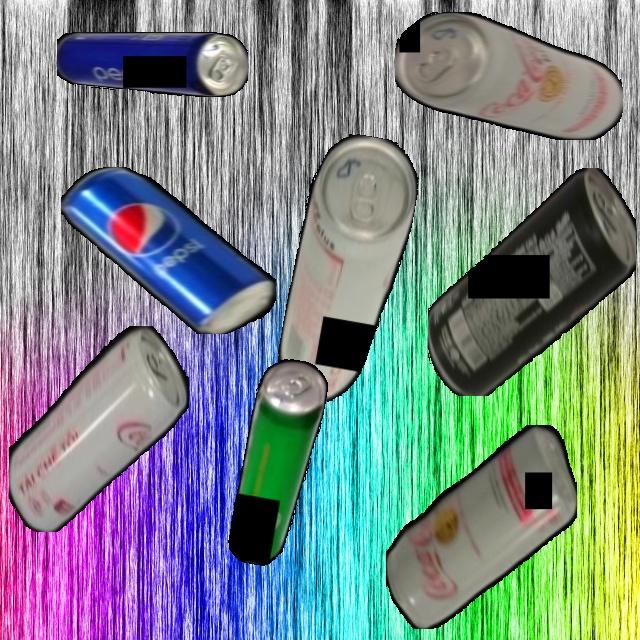debris: (427, 167, 636, 396), (272, 128, 425, 410), (385, 424, 577, 629), (8, 325, 189, 532), (61, 166, 276, 334), (395, 11, 623, 140), (223, 354, 331, 571), (56, 32, 248, 97)
